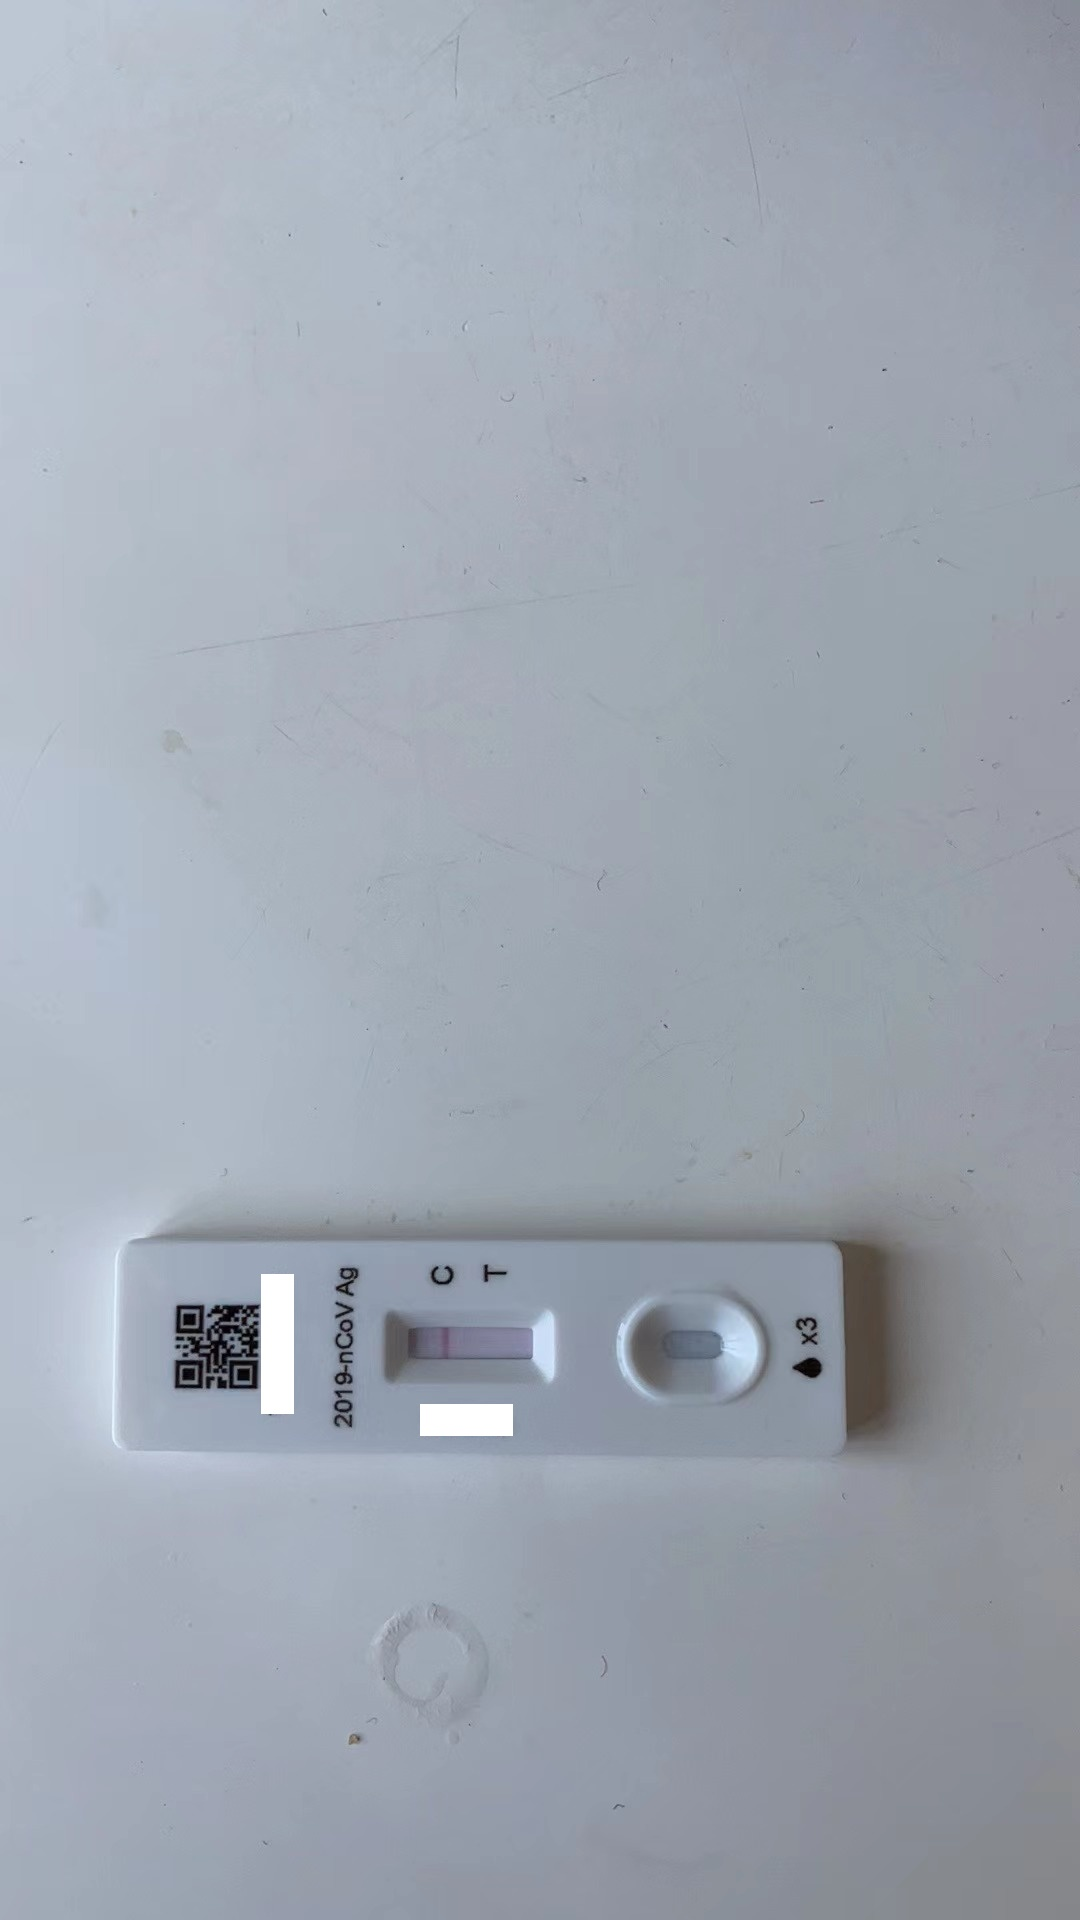negative: (373, 1307, 562, 1385)
